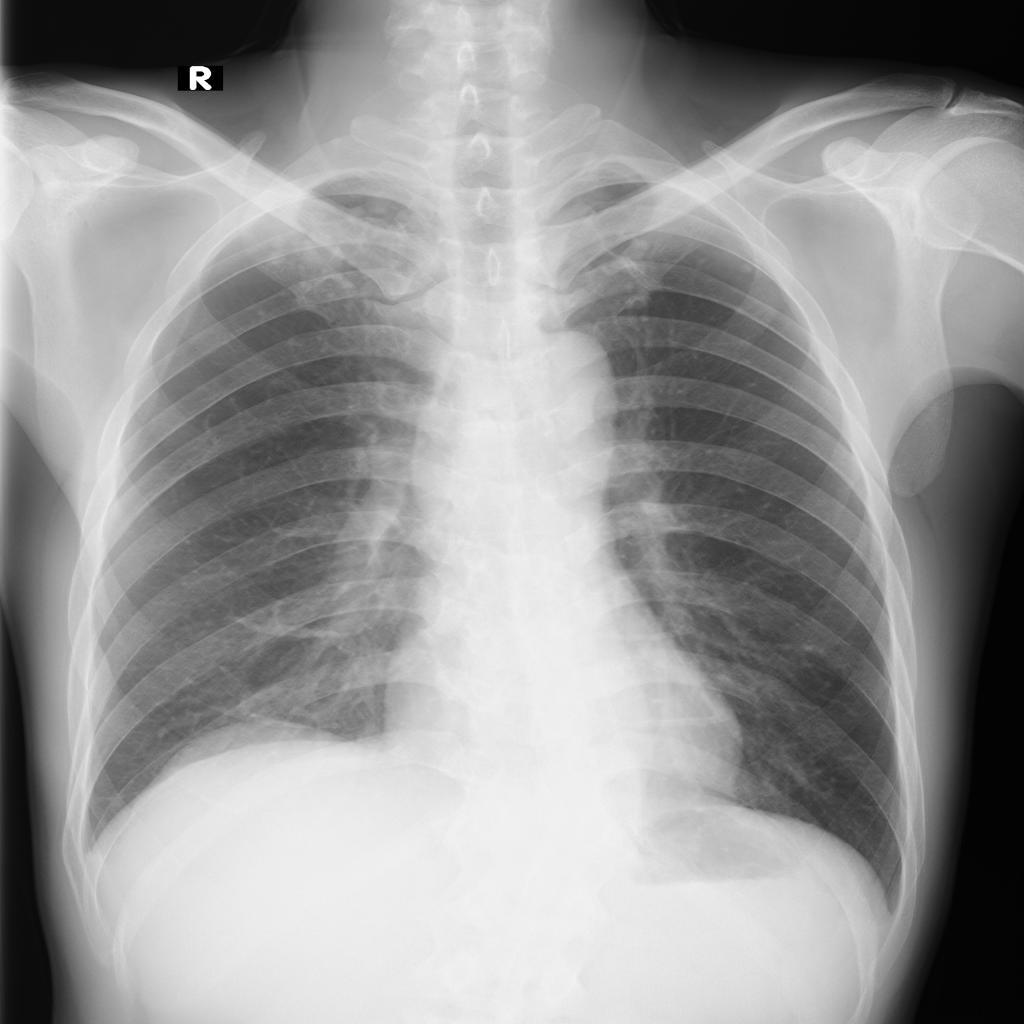Nodule: (736, 264, 752, 274)
